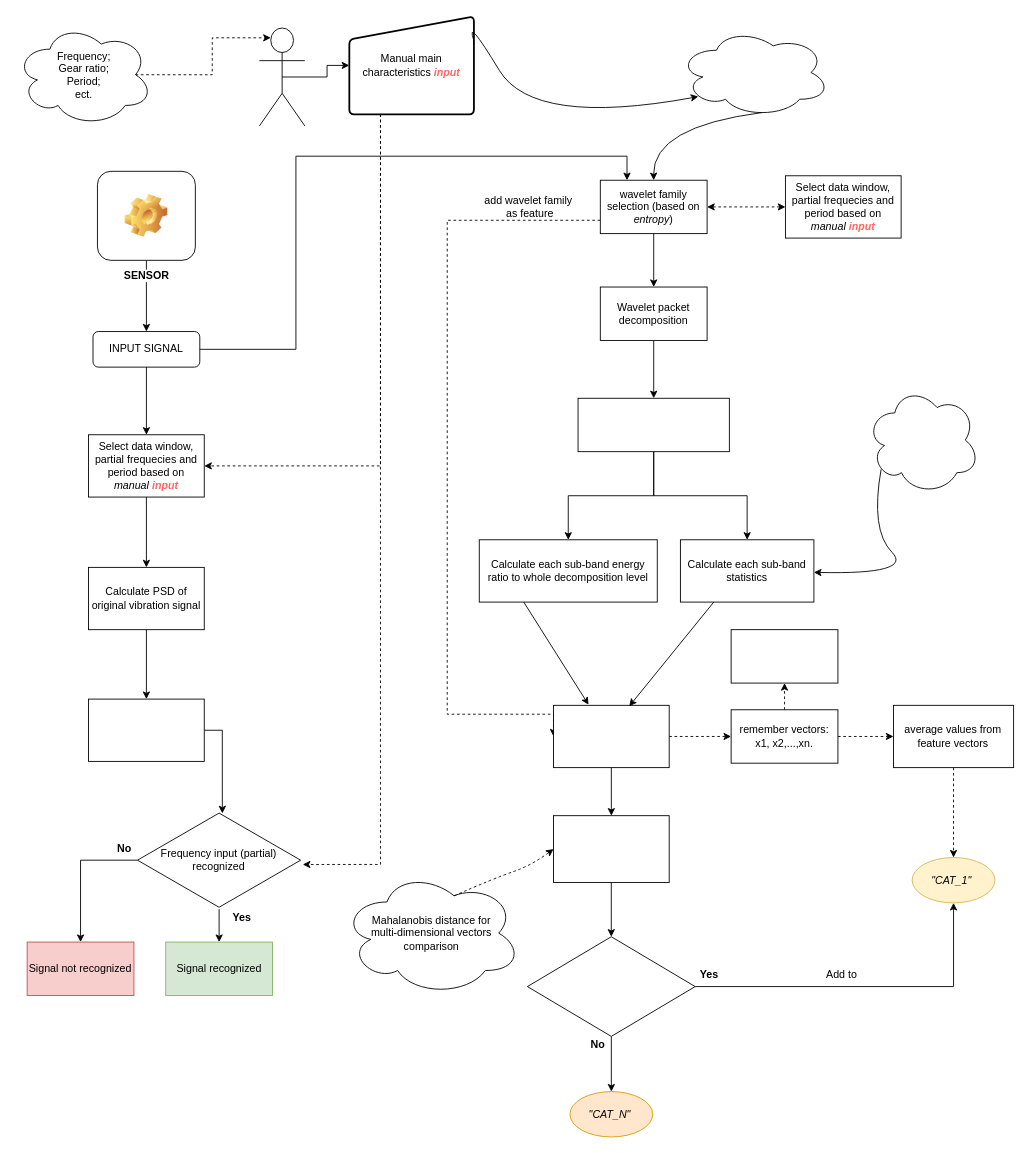
Image size: 1030x1153. Some labels were removed from this diagram. Each missing label, with the box of its shape:
energie; variance; kurtosis; skeweness; rms: (866, 385, 979, 494)
Feature vector (sub-band energy & statistics): (553, 704, 669, 768)
Identify dominant frequencies (FFT): (88, 698, 204, 761)
Maybe use low pass filter?? (based on input): (678, 27, 830, 117)
Measure distance between vector and "CAT_1": (553, 815, 669, 882)
Measured distance =< distance: (527, 936, 695, 1036)
Select decomposed level (based on your machine frequency): (577, 397, 729, 452)
set measuring distance = MAX distance between vectors "CAT_1": (730, 629, 838, 683)
USER: (259, 27, 305, 126)
